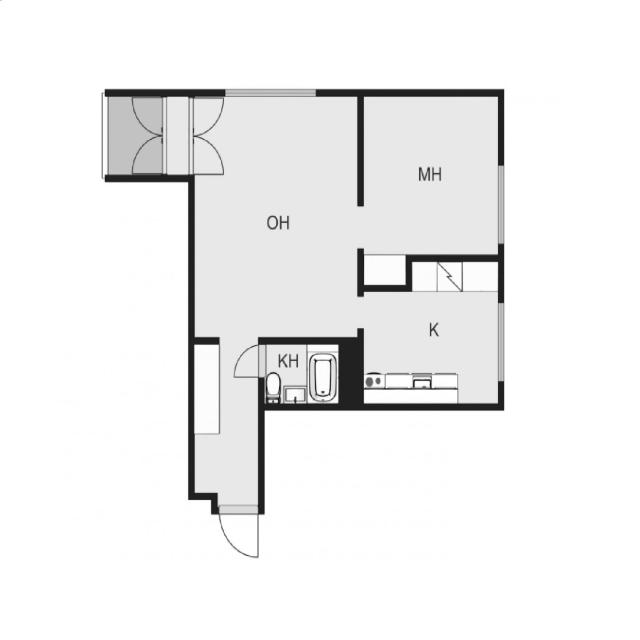door: (189, 98, 227, 179), (215, 502, 263, 561), (129, 92, 166, 141), (228, 340, 268, 382), (190, 92, 225, 140), (129, 135, 167, 174)
window: (226, 85, 320, 101), (495, 299, 507, 385), (495, 160, 506, 245)
zone: (192, 94, 359, 338), (360, 93, 501, 258), (359, 253, 502, 405), (190, 339, 262, 508), (262, 340, 343, 404)
